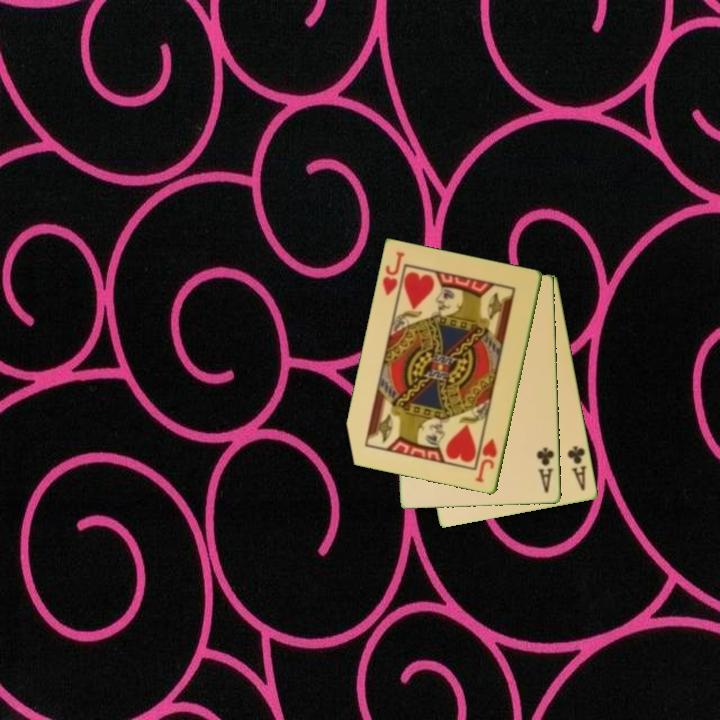Ac: (564, 442, 590, 494), (533, 444, 557, 496)
Jh: (379, 248, 408, 299), (472, 435, 500, 486)
